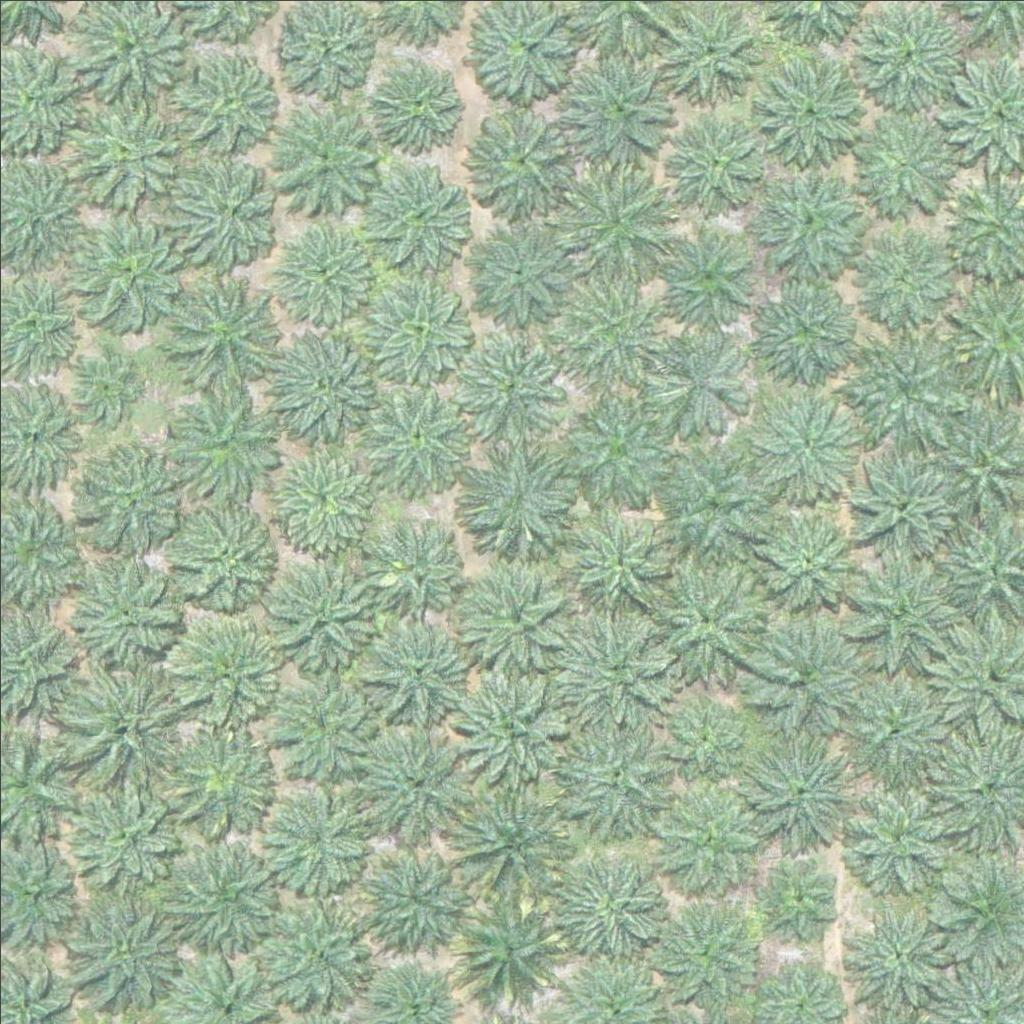Kelapa_Sawit: (637, 554, 762, 680), (551, 707, 676, 833), (558, 844, 671, 958), (840, 671, 953, 785), (843, 778, 956, 892), (361, 268, 474, 382), (467, 213, 580, 327), (167, 832, 280, 945), (261, 894, 374, 1007), (844, 447, 957, 560), (847, 551, 960, 664), (748, 267, 861, 380), (557, 615, 670, 728), (463, 438, 576, 551), (460, 558, 573, 671), (455, 662, 568, 775), (358, 379, 471, 492), (70, 215, 183, 328), (64, 665, 177, 778), (269, 99, 382, 212), (758, 56, 871, 169), (749, 730, 861, 844), (747, 616, 859, 730), (659, 437, 771, 551), (564, 386, 676, 500), (450, 327, 562, 441), (468, 105, 580, 219), (559, 166, 671, 280), (73, 890, 185, 1003), (357, 835, 469, 948), (450, 891, 562, 1004), (848, 324, 960, 437), (560, 267, 672, 380), (455, 786, 567, 899), (360, 726, 472, 839), (364, 617, 476, 730), (272, 323, 384, 436), (266, 440, 378, 553), (265, 554, 377, 667), (167, 384, 279, 497), (172, 270, 284, 383), (66, 90, 178, 203), (171, 159, 283, 272), (173, 49, 285, 162), (566, 48, 678, 161), (850, 108, 962, 221), (846, 905, 946, 1006), (753, 394, 853, 495), (659, 223, 759, 324), (659, 781, 759, 882), (366, 525, 466, 626), (278, 682, 378, 783), (268, 791, 368, 892), (168, 733, 268, 834), (176, 616, 276, 717), (173, 507, 273, 608), (81, 449, 181, 550), (75, 562, 175, 663), (366, 164, 466, 265), (666, 112, 766, 213), (662, 5, 762, 106), (758, 170, 858, 271), (855, 227, 955, 328), (654, 903, 754, 1003), (760, 512, 860, 612), (653, 327, 753, 427), (567, 516, 667, 616), (271, 221, 371, 321), (79, 790, 179, 890), (362, 51, 462, 151), (765, 856, 840, 932), (663, 697, 738, 773), (69, 348, 144, 423)
